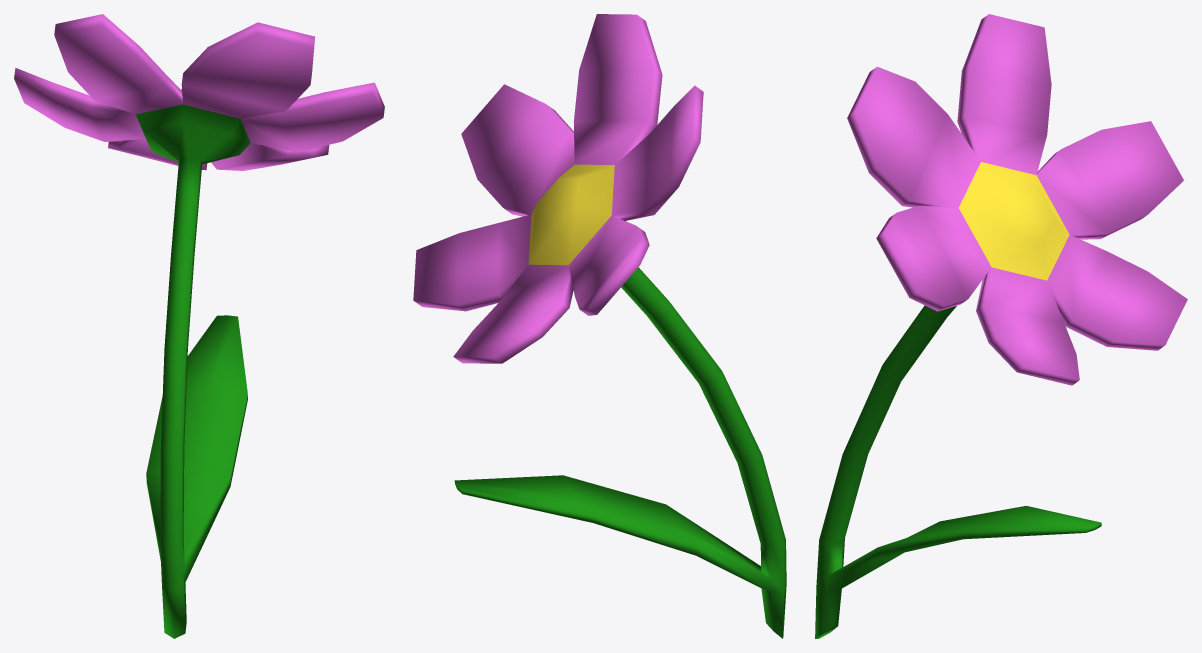
Rendered from Flower Pink 1.fbx.
The picture shows the model from 3 angles, left to right: view 1: azimuth 30°, elevation 25°; view 2: azimuth 150°, elevation 25°; view 3: azimuth 270°, elevation 25°; orthographic projection. The views are drawn at different scales.
Parts seen in each view (by area): view 1: Flower Pink 1; view 2: Flower Pink 1; view 3: Flower Pink 1.
Boxes of the visible parts, x1,y1,x2,y2 form: Flower Pink 1: [14, 14, 384, 638]; Flower Pink 1: [413, 14, 786, 638]; Flower Pink 1: [815, 14, 1187, 638].
Bounding box in the file's own units: 32.14 × 33.92 × 63.38.
